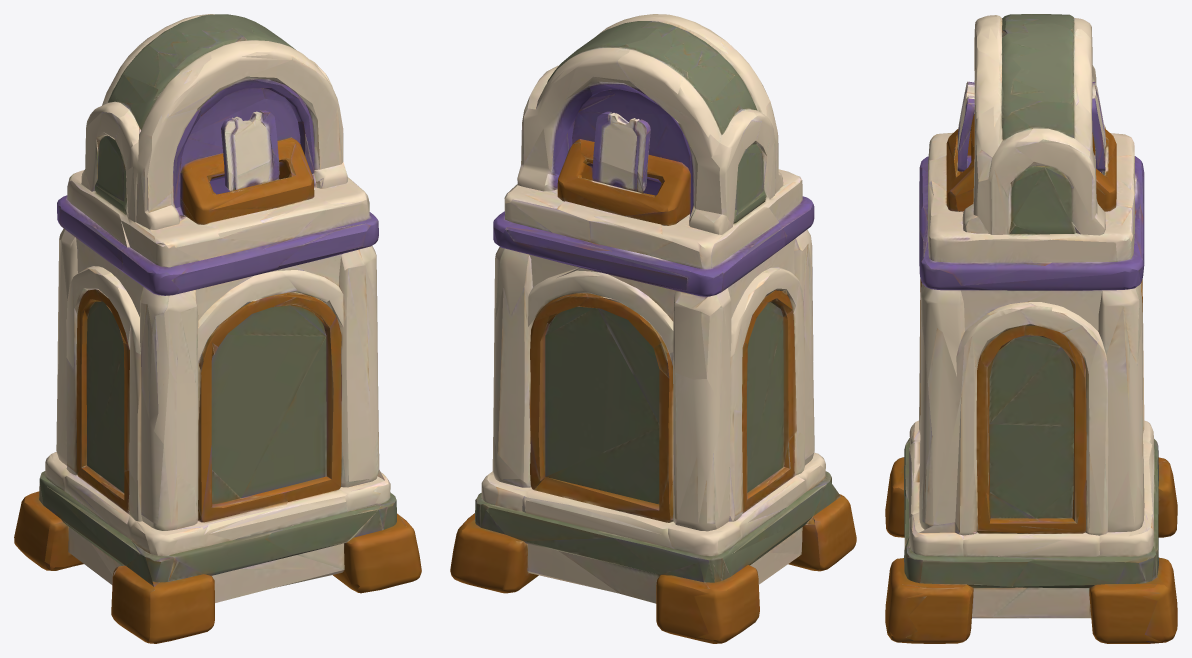
Rendered from ballotBox.glb.
3 views of the same model, side by side, from view 1: azimuth 30°, elevation 25°; view 2: azimuth 150°, elevation 25°; view 3: azimuth 270°, elevation 25° (orthographic). The views are drawn at different scales.
Visible parts, largest first — view 1: Mesh_0; view 2: Mesh_0; view 3: Mesh_0.
Boxes of the visible parts, x1,y1,x2,y2 form: Mesh_0: (14, 14, 421, 643); Mesh_0: (450, 14, 856, 643); Mesh_0: (885, 14, 1177, 643).
Bounding box in the file's own units: 0.6059 × 1.1 × 0.5278.
1 material, 1 textured.
